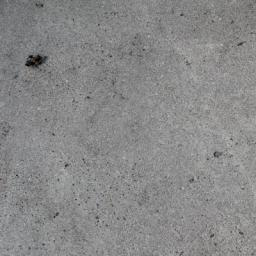FOD: (23, 53, 51, 71)
